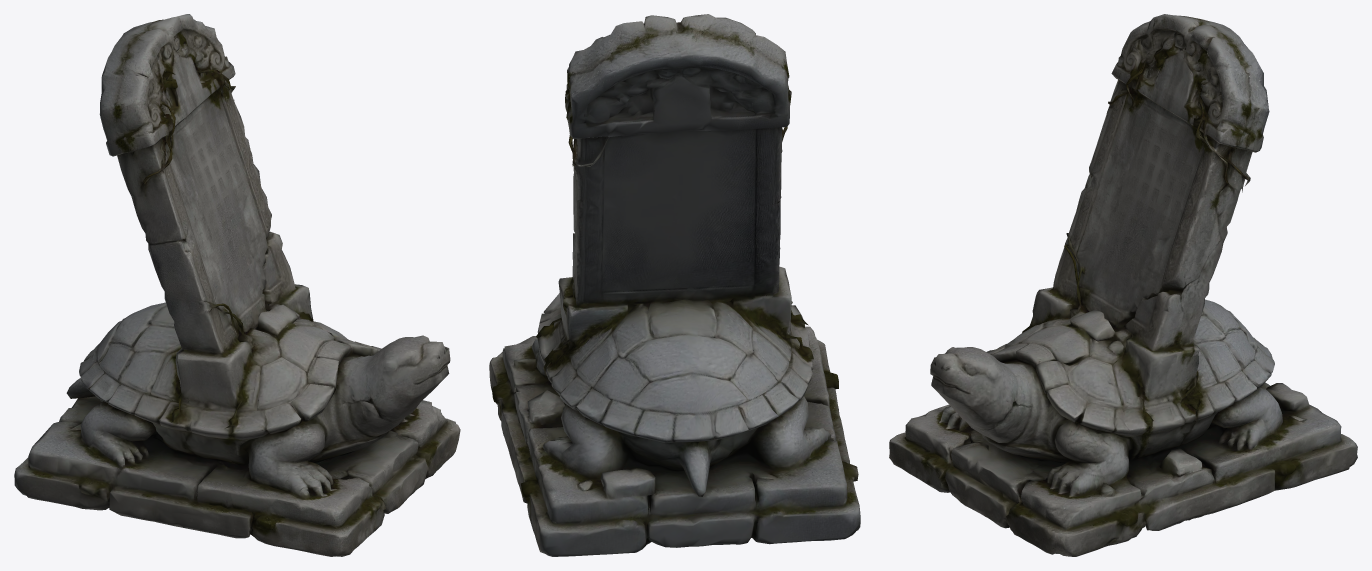
3 views of the same model, side by side, from view 1: azimuth 30°, elevation 25°; view 2: azimuth 150°, elevation 25°; view 3: azimuth 270°, elevation 25° (orthographic). The views are drawn at different scales.
Visible parts, largest first — view 1: tripo_node_bf769c9d-b2f1-4c59-bd5f-f7646a573296; view 2: tripo_node_bf769c9d-b2f1-4c59-bd5f-f7646a573296; view 3: tripo_node_bf769c9d-b2f1-4c59-bd5f-f7646a573296.
Boxes of the visible parts, left/top/right/bottom form: tripo_node_bf769c9d-b2f1-4c59-bd5f-f7646a573296: left=14, top=14, right=460, bottom=556; tripo_node_bf769c9d-b2f1-4c59-bd5f-f7646a573296: left=489, top=14, right=860, bottom=556; tripo_node_bf769c9d-b2f1-4c59-bd5f-f7646a573296: left=889, top=14, right=1357, bottom=556.
Bounding box in the file's own units: 0.9346 × 1 × 0.9935.
Materials: 1 (1 with a texture image).
